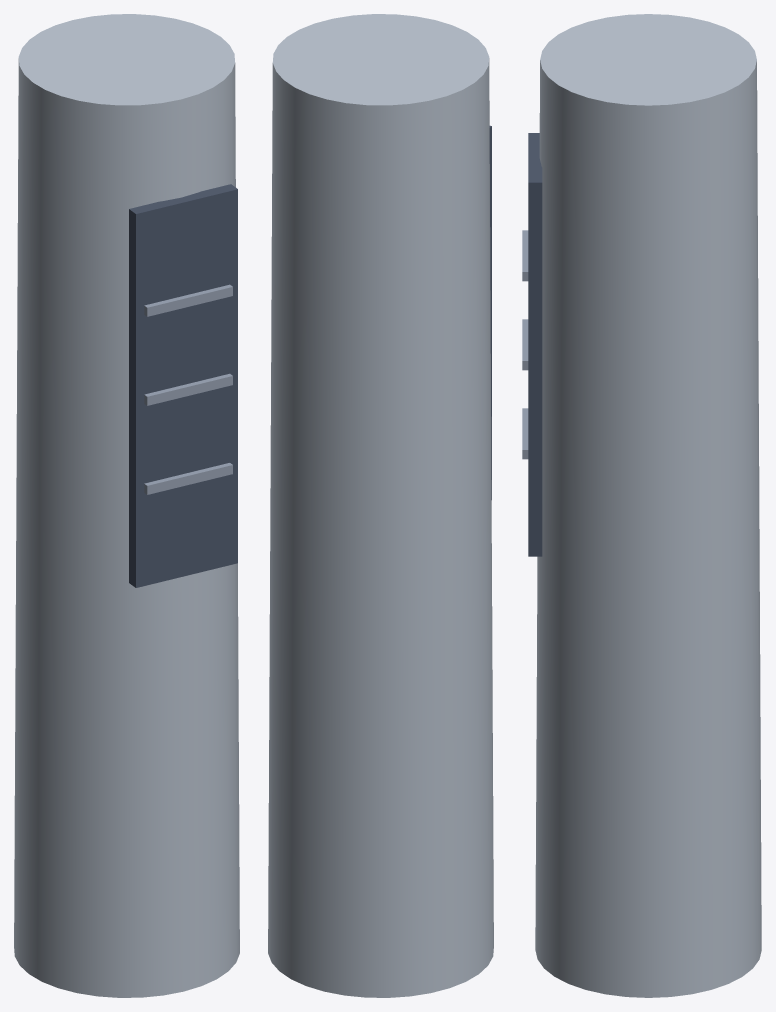
Rendered from floorac.glb.
3 renders of one model, left to right at view 1: azimuth 30°, elevation 25°; view 2: azimuth 150°, elevation 25°; view 3: azimuth 270°, elevation 25°, orthographic.
Parts seen in each view (by area): view 1: floorac; view 2: floorac; view 3: floorac.
Boxes of the visible parts, left/top/right/bottom form: floorac: left=14, top=14, right=239, bottom=997; floorac: left=268, top=14, right=493, bottom=997; floorac: left=522, top=14, right=761, bottom=997.
Size of the model in its own units: 0.4032 by 1.75 by 0.4266.
